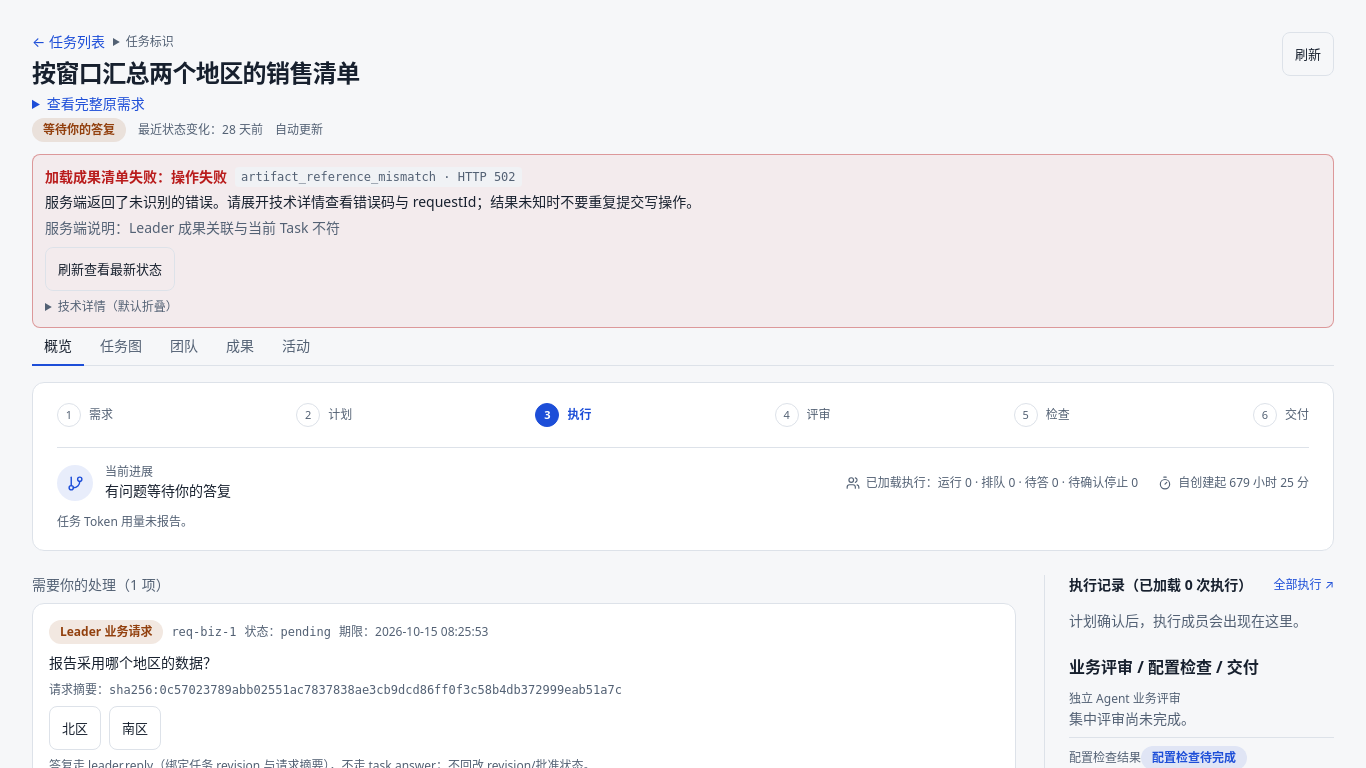
Leader 原请求受理后的统一等待提示 › 明确拒绝或未知结果不冒充已受理并减少待办：{"name":"ApiError","status":409,"code":"revision_conflict","requestId":null}
The image size is (1366, 768).
Click the button with test id "leader-answer-option-north".
click(75, 728)  # box top-left (49, 706), bottom-right (101, 750)
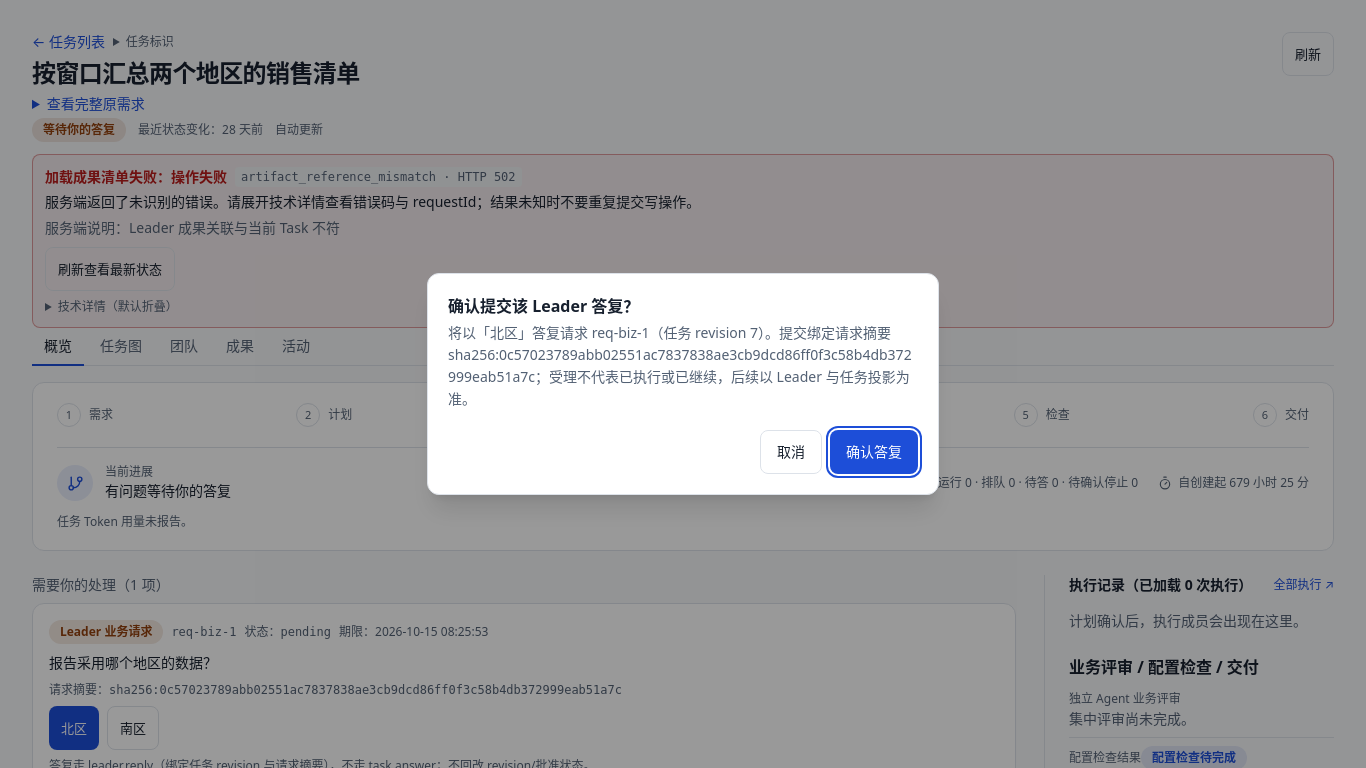
Click the button "确认答复".
click(874, 452)  # box top-left (830, 430), bottom-right (918, 474)
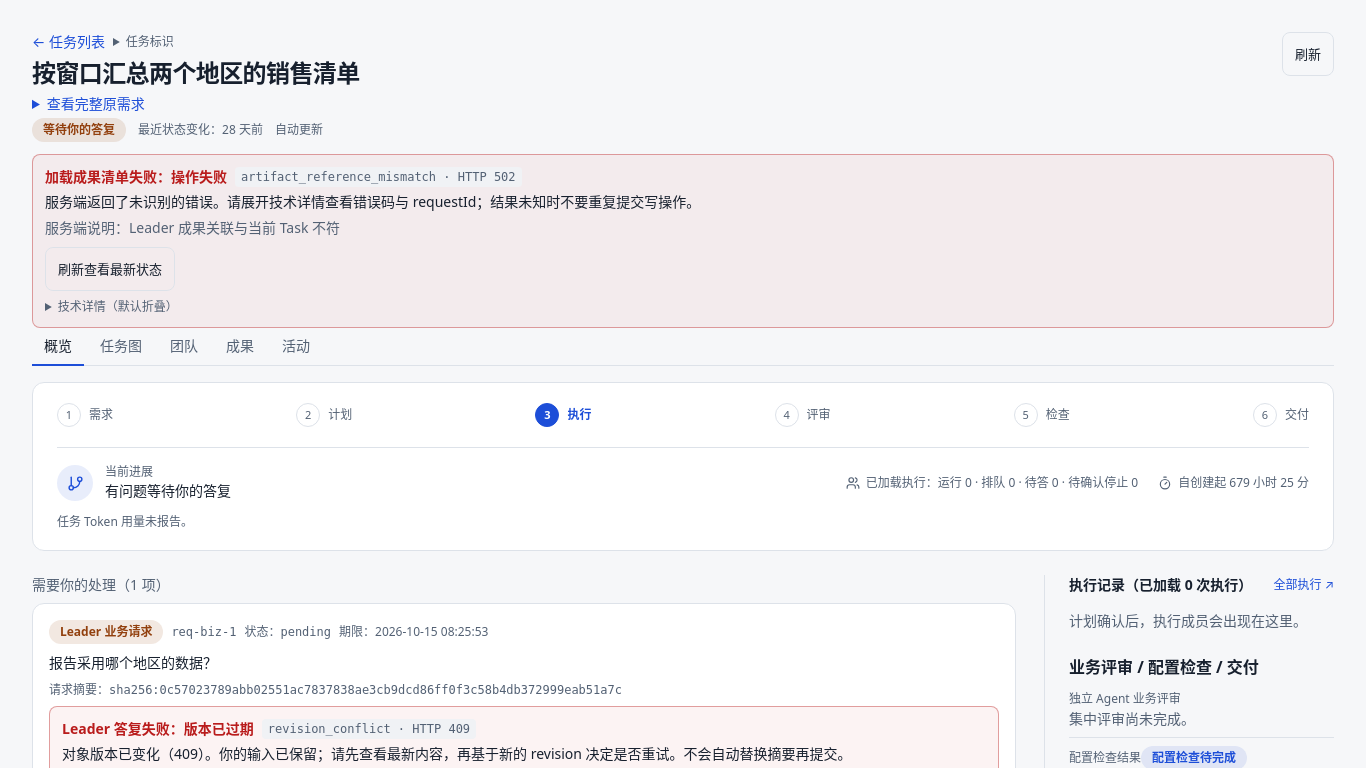
Expected: the heading "需要你的处理（1 项）" is shown, top-left (32, 575), bottom-right (170, 594)
Now the text "Leader 答复失败：版本已过期" is shown, box top-left (62, 719), bottom-right (254, 739)
